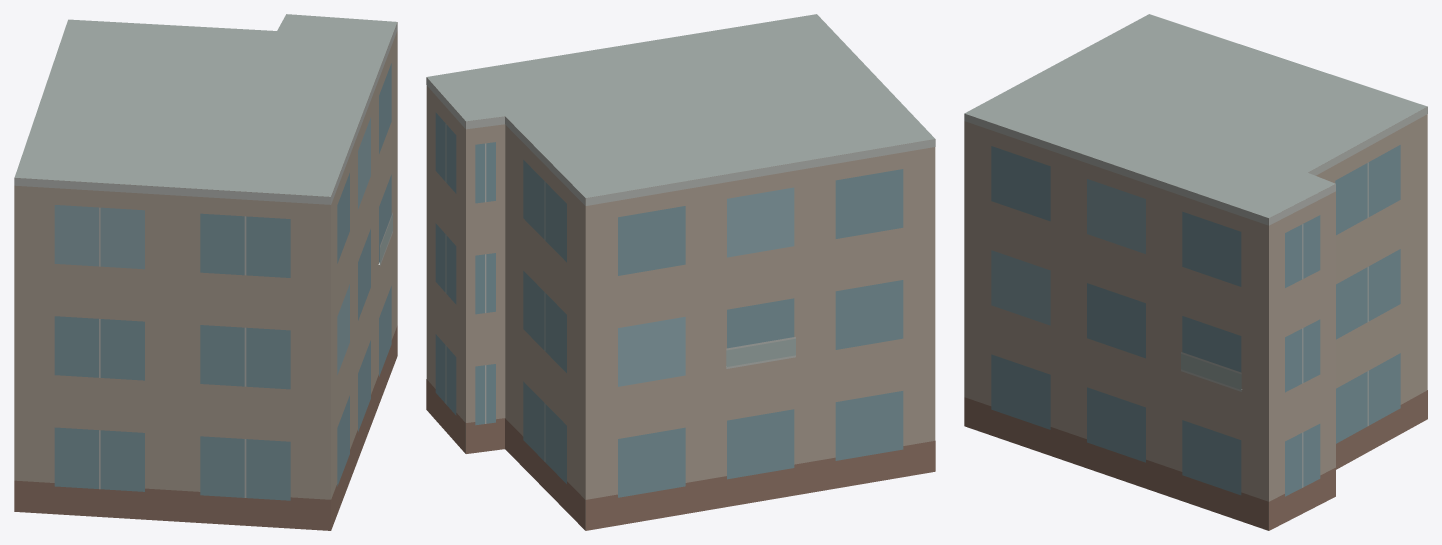
Rendered from survey-upis-32705068.glb.
3 views of the same model, side by side, from view 1: azimuth 30°, elevation 25°; view 2: azimuth 150°, elevation 25°; view 3: azimuth 270°, elevation 25° (orthographic). The views are drawn at different scales.
Parts seen in each view (by area): view 1: survey-upis-32705068.tmp; view 2: survey-upis-32705068.tmp; view 3: survey-upis-32705068.tmp.
Boxes of the visible parts, <box> form: survey-upis-32705068.tmp: <box>14,14,397,530</box>; survey-upis-32705068.tmp: <box>426,14,935,530</box>; survey-upis-32705068.tmp: <box>964,14,1427,530</box>.
Size of the model in its own units: 14.3 by 10.2 by 13.71.
